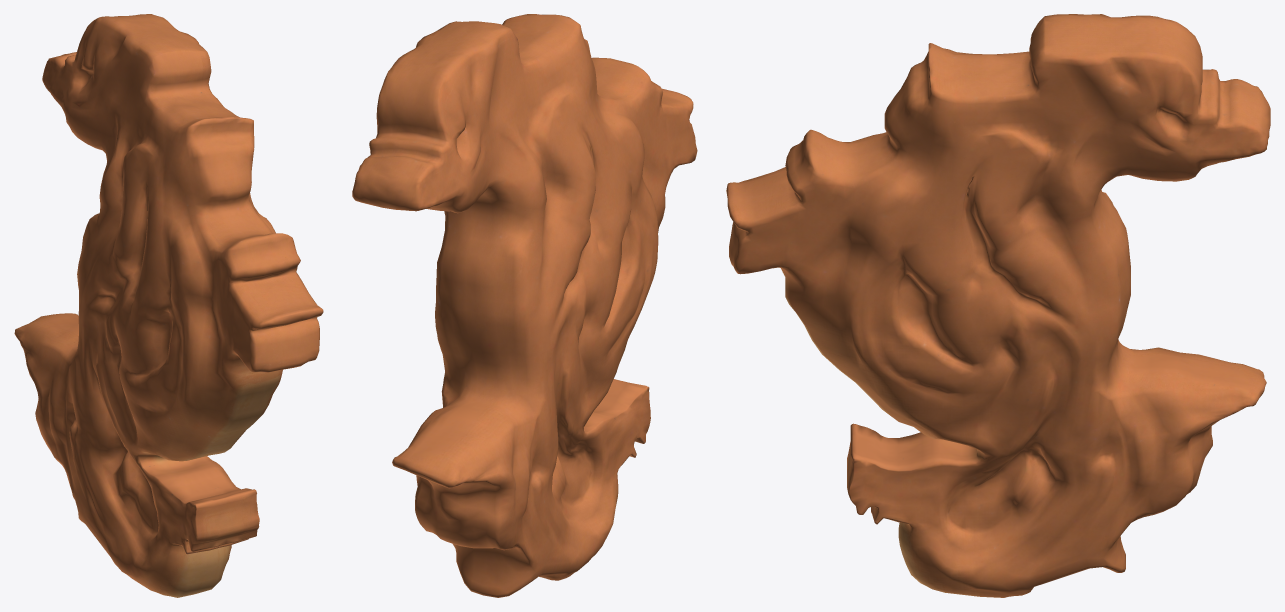
Rendered from Gorund AlUla.fbx.
3 renders of one model, left to right at view 1: azimuth 30°, elevation 25°; view 2: azimuth 150°, elevation 25°; view 3: azimuth 270°, elevation 25°, orthographic. The views are drawn at different scales.
Parts seen in each view (by area): view 1: tripo_node_bec1180e; view 2: tripo_node_bec1180e; view 3: tripo_node_bec1180e.
Part boxes in pixels (x1,y1,x2,y2): tripo_node_bec1180e: [14, 14, 323, 597]; tripo_node_bec1180e: [352, 14, 697, 597]; tripo_node_bec1180e: [726, 14, 1270, 597].
Size of the model in its own units: 0.2485 by 0.9998 by 0.8472.
